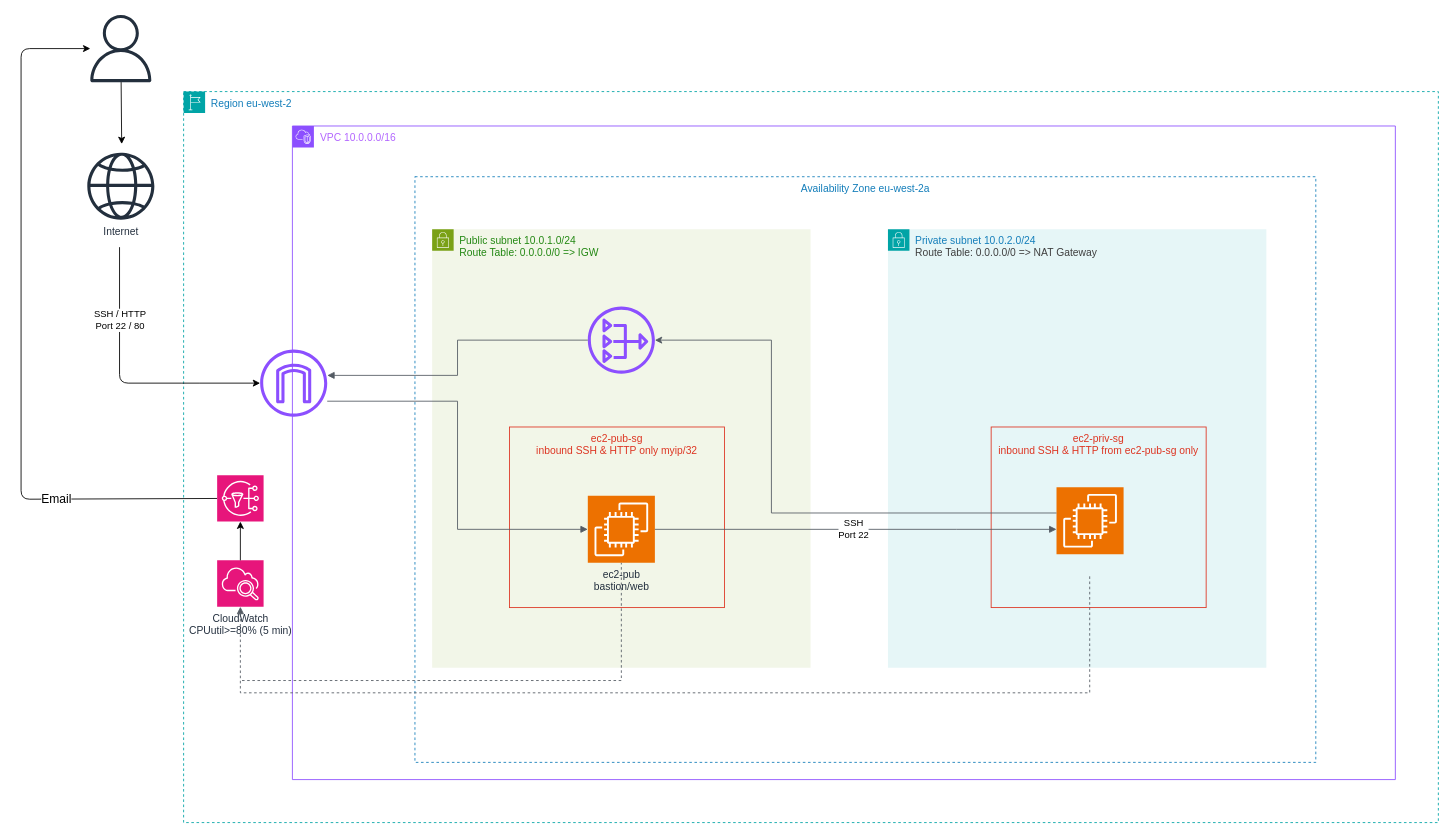
Image size: 1453x838. Some labels were removed from this diagram. The centre of each missing label's shape, as x and y in pixels:
"ec2-priv" belongs at (x=1090, y=520).
"IGW" belongs at (x=293, y=382).
"Me" belongs at (x=120, y=48).
"NAT Gateway Elastic IP" belongs at (x=620, y=339).
"SNS" belongs at (x=240, y=498).
